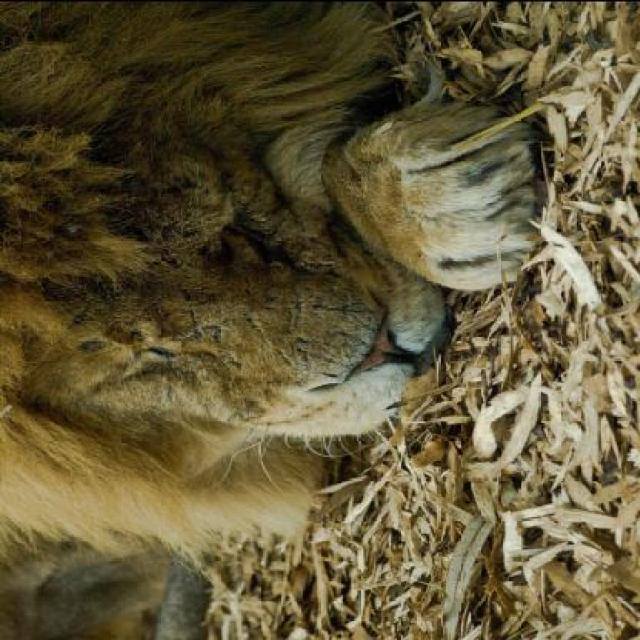Lion: (3, 0, 639, 580)
